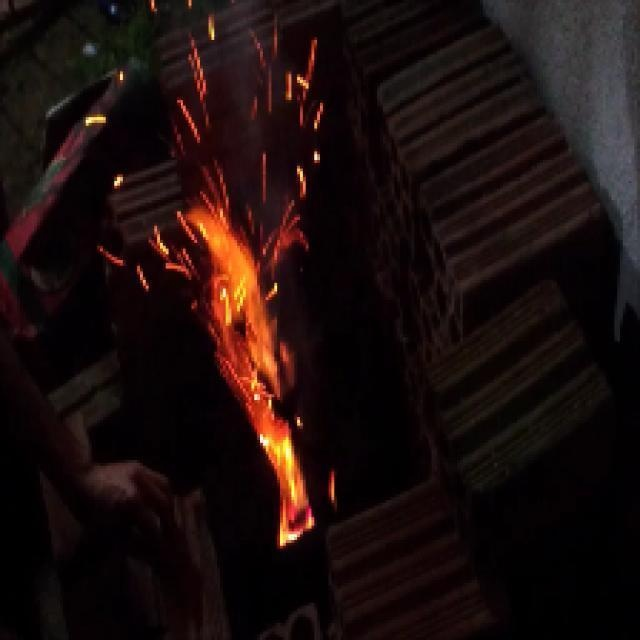fire: (167, 164, 348, 554)
